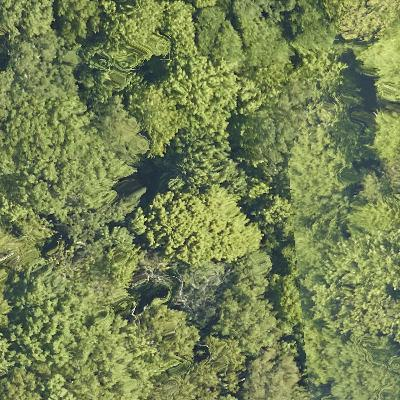tree-top: (2, 99, 119, 208), (72, 306, 206, 399), (150, 176, 256, 268), (137, 64, 250, 148), (311, 238, 400, 341), (36, 225, 137, 307), (0, 316, 69, 400), (221, 266, 285, 351), (316, 337, 400, 400), (286, 130, 351, 207), (0, 41, 82, 101), (232, 343, 304, 400), (108, 1, 179, 58), (72, 48, 139, 107), (251, 102, 296, 182), (356, 25, 400, 105), (170, 134, 238, 185), (194, 9, 248, 71), (321, 0, 400, 39), (0, 0, 57, 45), (348, 190, 399, 239), (294, 57, 346, 103), (366, 104, 400, 172), (278, 0, 320, 46), (55, 0, 102, 40), (273, 269, 305, 327), (256, 192, 291, 226)
